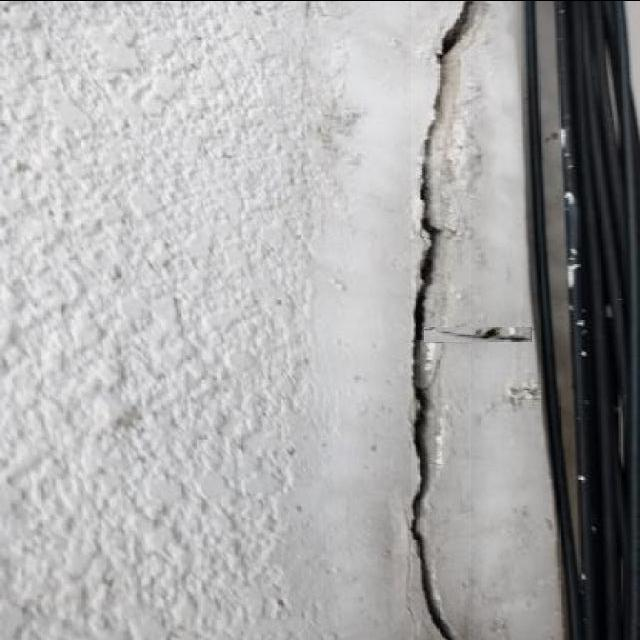Crack: (405, 0, 491, 639)
